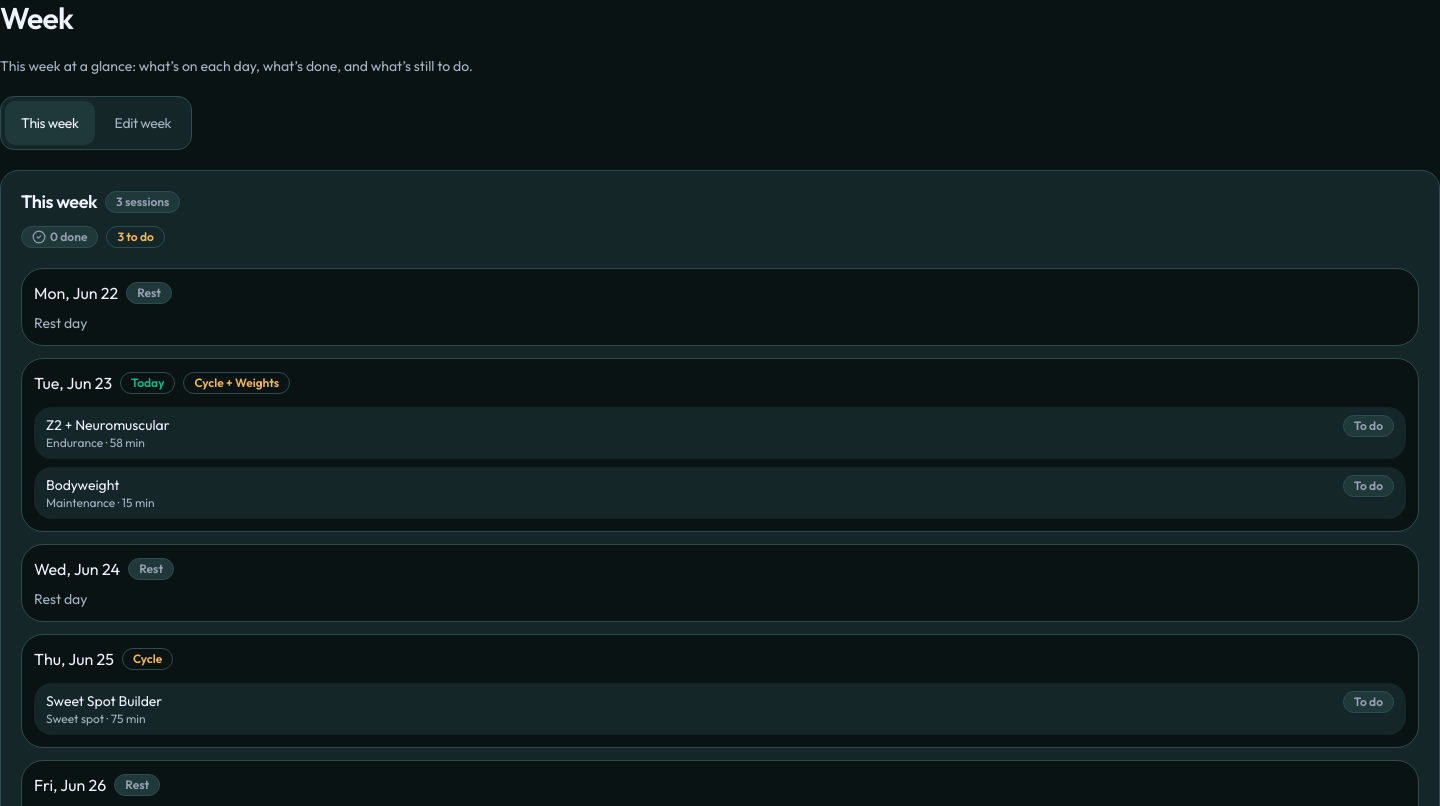
Scenario: WeekAheadPage › renders a split day (ride + strength) as two independently movable rows (Batch 65)
Check: the text "Z2 + Neuromuscular" is shown, box [46,414,170,434]
Click the tab "Edit week" at (143, 123), box [99,101,187,145]
(page scrolled)
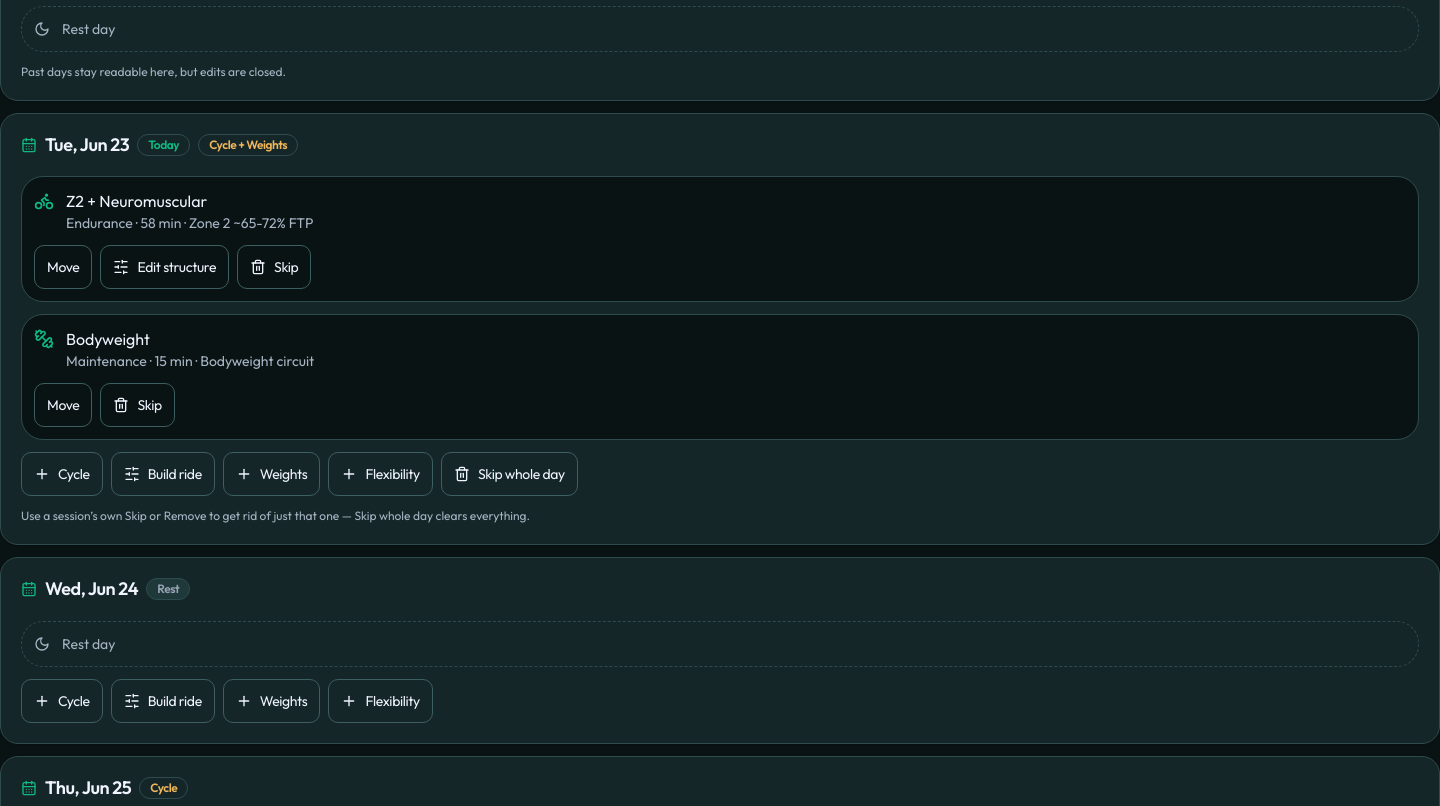
Check: the 1st button "Move" is shown, box [34,245,92,289]
Check: the 2nd button "Move" is shown, box [34,383,92,427]
